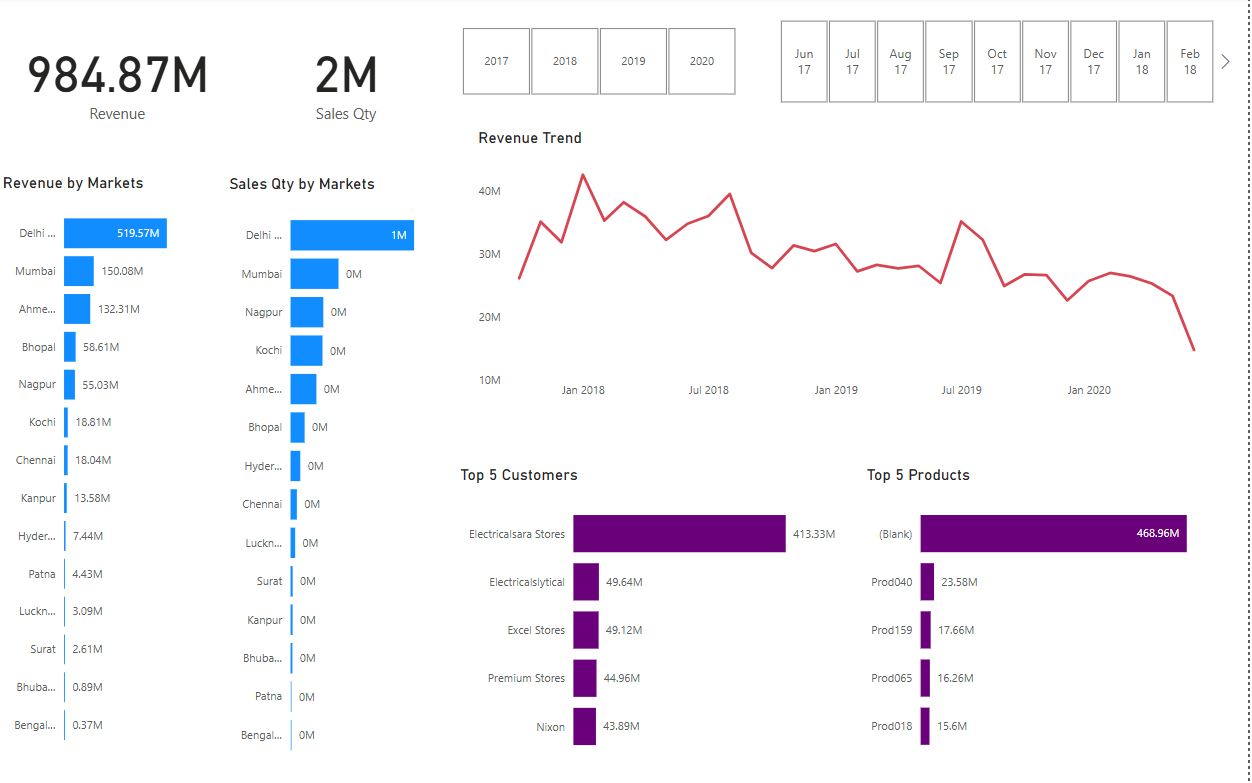

The dashboard page shown, as its layout file describes it:
{"tool":"powerbi","page":{"name":"Page 1","canvas":[1350,850],"ordinal":0},"visuals":[{"type":"card","fields":{"Values":["BaseMeasures.Revenue"]},"box":[0,0,256.7,175],"z":0},{"type":"card","fields":{"Values":["BaseMeasures.Sales Qty"]},"box":[256.7,0,239.2,175],"z":1000},{"type":"barChart","title":"Revenue by Markets","fields":{"Y":["BaseMeasures.Revenue"],"Category":["sales markets.markets_name"]},"box":[0,190.5,231.4,633.9],"z":2000},{"type":"barChart","title":"Sales Qty by Markets","fields":{"Y":["BaseMeasures.Sales Qty"],"Category":["sales markets.markets_name"]},"box":[245,192.5,231.4,643.6],"z":3000},{"type":"slicer","fields":{"Values":["sales date.year"]},"box":[476.4,27.2,344.1,85.6],"z":4000},{"type":"slicer","fields":{"Values":["sales date.cy_date"]},"box":[819.8,19.4,516.8,102.1],"z":5000},{"type":"barChart","title":"Top 5 Customers","fields":{"Y":["BaseMeasures.Revenue"],"Category":["sales customers.customer_name"]},"box":[493.3,506.7,508.3,330],"z":6000},{"type":"barChart","title":"Top 5 Products","fields":{"Y":["BaseMeasures.Revenue"],"Category":["sales products.product_code"]},"box":[933.3,507.5,404.4,328.6],"z":7000},{"type":"lineChart","title":"Revenue Trend","fields":{"Y":["BaseMeasures.Revenue"],"Category":["sales date.cy_date"]},"box":[513.3,141.9,806.9,301.4],"z":8000}]}

Visuals, with their boxes in screenshot pixels (x1, y1, x2, y2), scaled from the page's 1350x850 canvas onto the 1252x783 screenshot:
card - BaseMeasures.Revenue: (0, 0, 238, 161)
card - BaseMeasures.Sales Qty: (238, 0, 460, 161)
"Revenue by Markets" barChart: (0, 175, 215, 759)
"Sales Qty by Markets" barChart: (227, 177, 442, 770)
slicer - sales date.year: (442, 25, 761, 104)
slicer - sales date.cy_date: (760, 18, 1240, 112)
"Top 5 Customers" barChart: (457, 467, 929, 771)
"Top 5 Products" barChart: (866, 467, 1241, 770)
"Revenue Trend" lineChart: (476, 131, 1224, 408)
